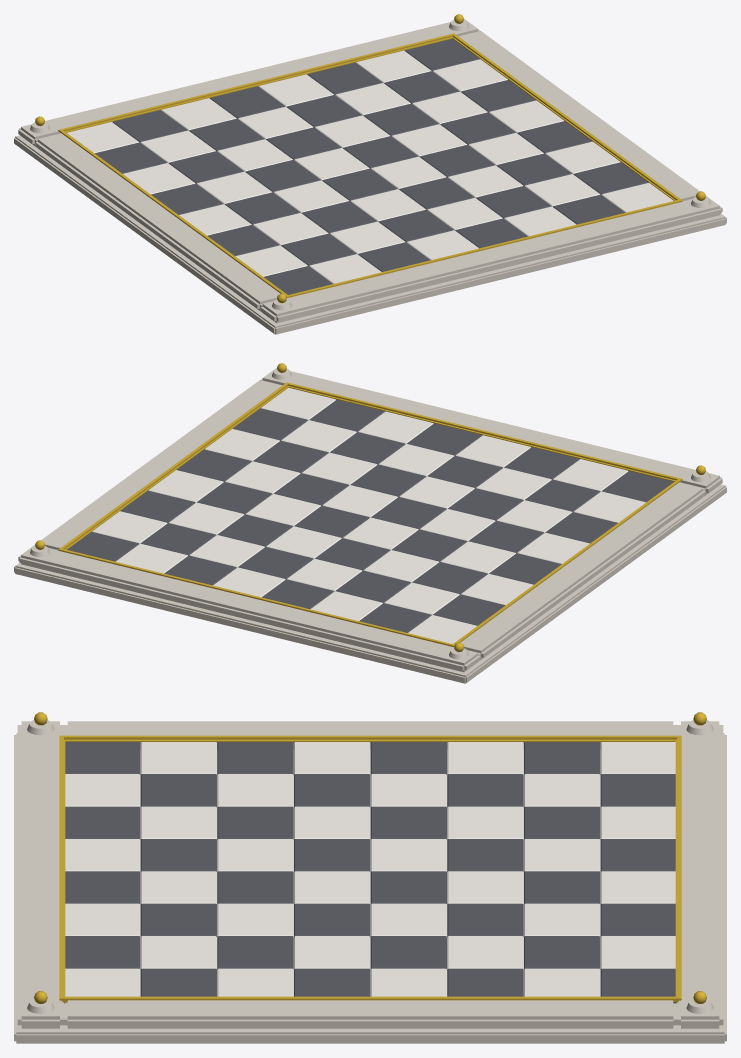
File: Louvre_Tablero.fbx
3 renders of one model, top to bottom at view 1: azimuth 30°, elevation 25°; view 2: azimuth 150°, elevation 25°; view 3: azimuth 270°, elevation 25°, orthographic. The views are drawn at different scales.
Parts seen in each view (by area): view 1: Louvre_Tablero; view 2: Louvre_Tablero; view 3: Louvre_Tablero.
Boxes of the visible parts, bbox=[...] form: Louvre_Tablero: bbox=[14, 14, 726, 334]; Louvre_Tablero: bbox=[14, 363, 726, 683]; Louvre_Tablero: bbox=[14, 712, 726, 1043].
Bounding box in the file's own units: 9.3 × 1.17 × 9.3.
